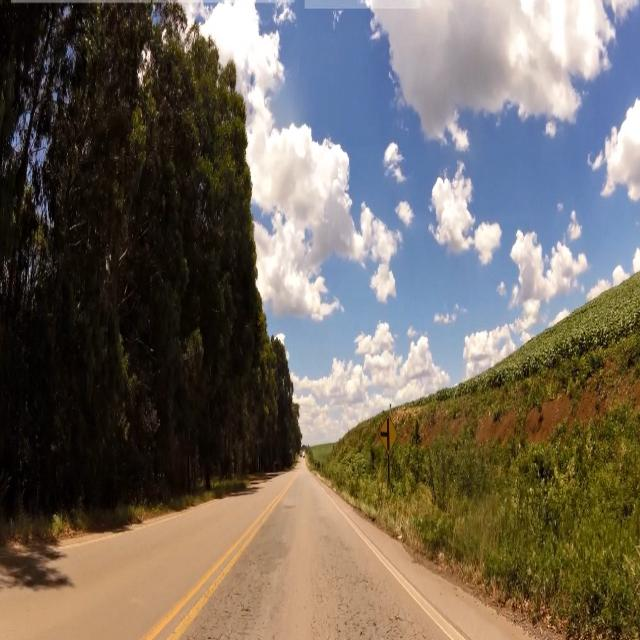A-7a: (375, 407, 400, 461)
